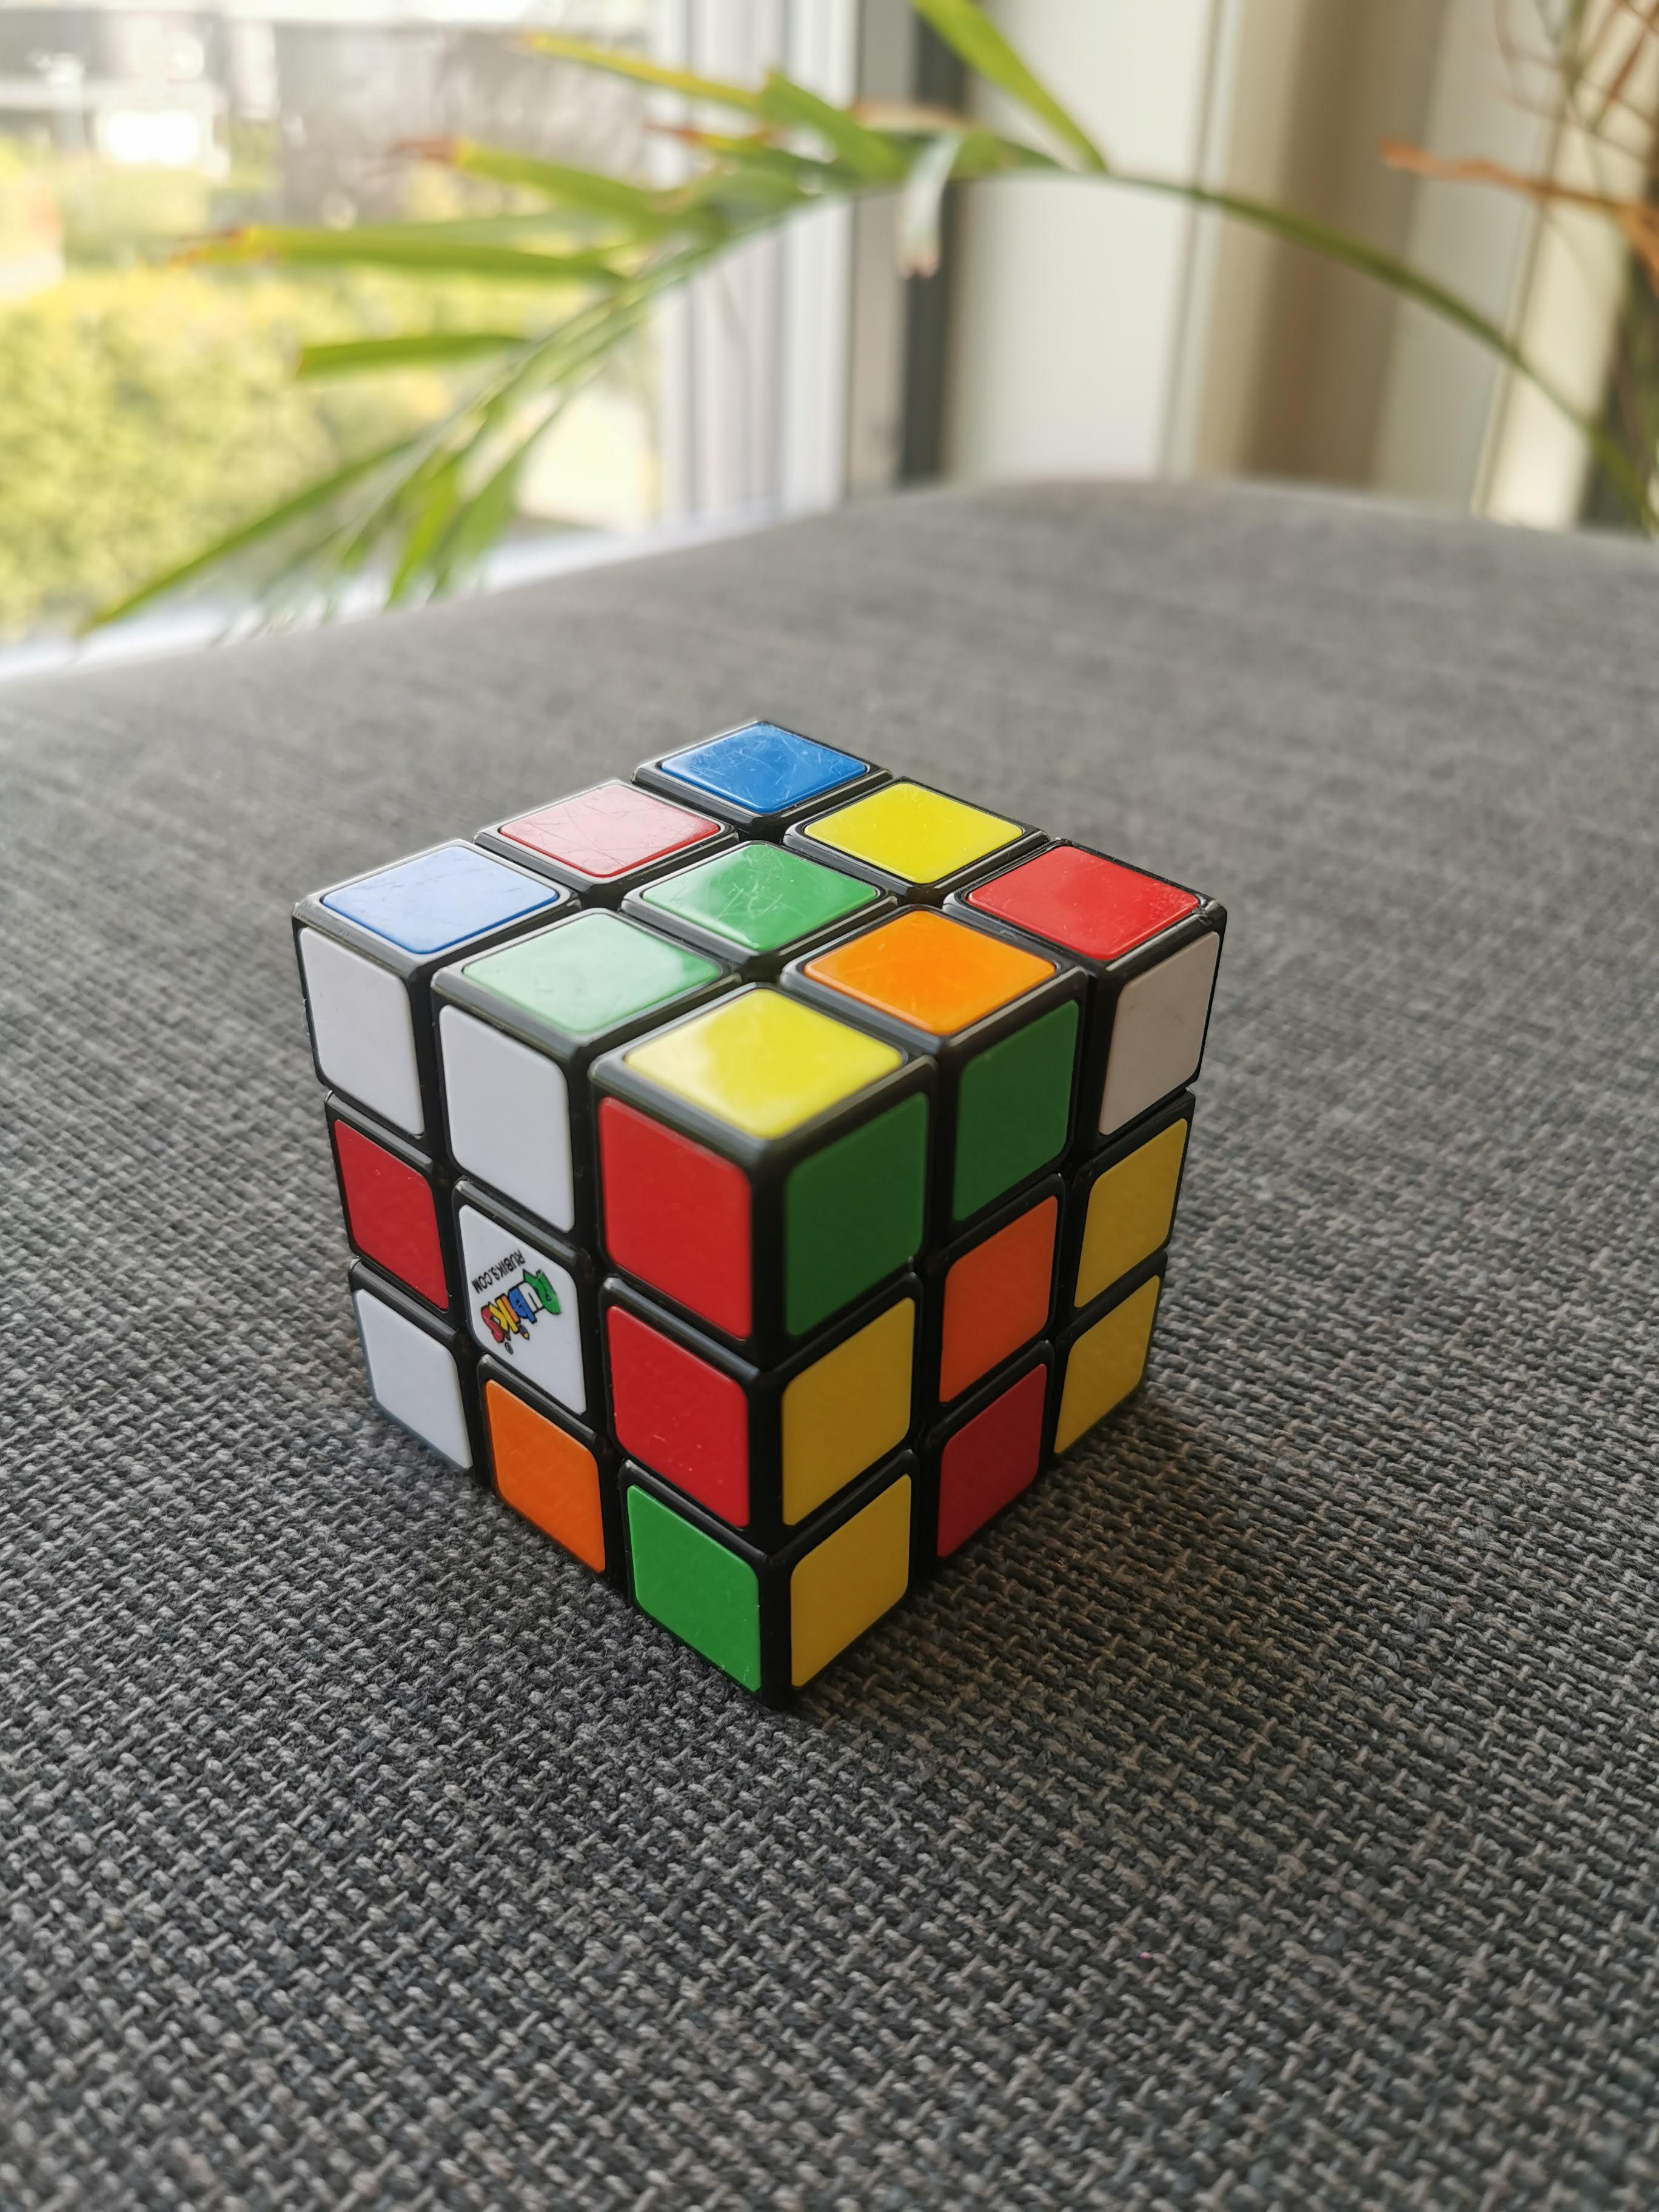cube: (289, 714, 1232, 1721)
